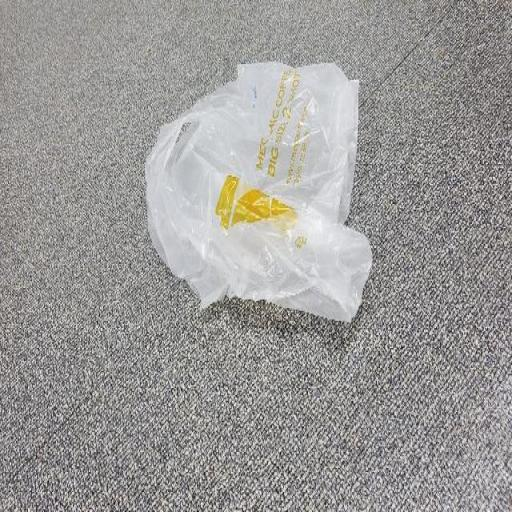plastic-bag: (140, 56, 374, 328)
